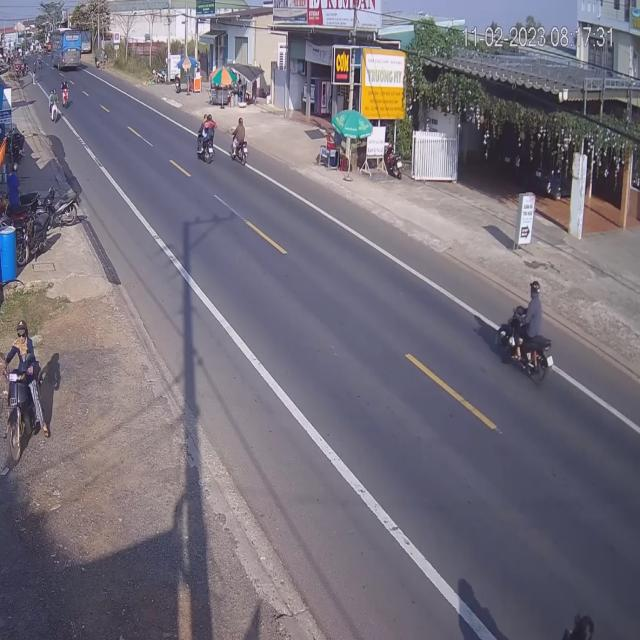bus: (51, 28, 83, 72)
motorbike: (501, 280, 558, 390), (196, 113, 216, 165), (231, 118, 249, 172), (49, 91, 60, 119), (61, 82, 70, 111)
